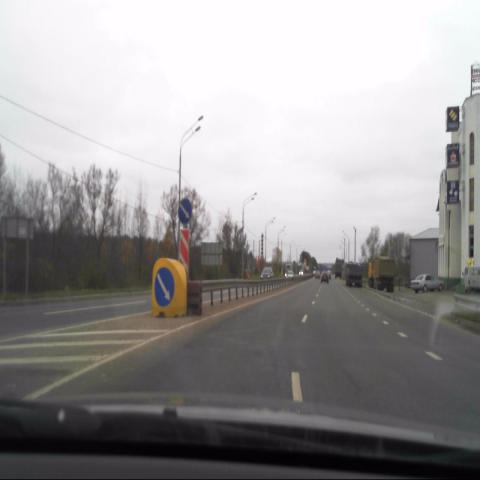4_2_1: (153, 265, 176, 311), (178, 197, 192, 224)
